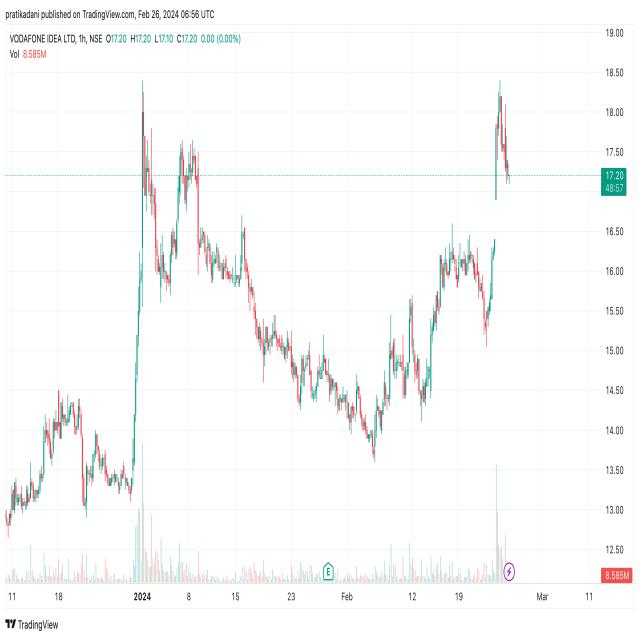Gap Up: (489, 115, 505, 268)
